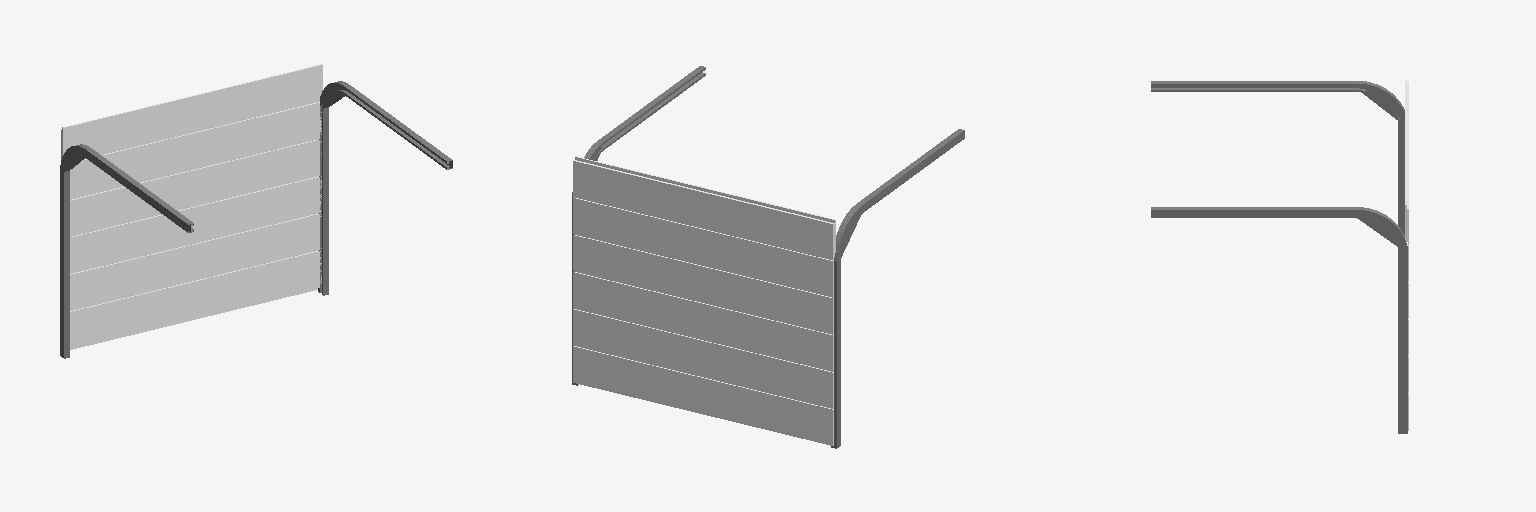
Rendered from garage_door_copy.obj.
3 views of the same model, side by side, from view 1: azimuth 30°, elevation 25°; view 2: azimuth 150°, elevation 25°; view 3: azimuth 270°, elevation 25° (orthographic).
Visible parts, largest first — view 1: garage_door_Cube, garage_door_mechanism_Cube.001; view 2: garage_door_Cube, garage_door_mechanism_Cube.001; view 3: garage_door_mechanism_Cube.001, garage_door_Cube.
Boxes of the visible parts, <box> form: garage_door_Cube: <box>61,64,322,349</box>; garage_door_mechanism_Cube.001: <box>60,81,452,358</box>; garage_door_Cube: <box>573,156,835,445</box>; garage_door_mechanism_Cube.001: <box>572,66,964,448</box>; garage_door_mechanism_Cube.001: <box>1151,81,1407,433</box>; garage_door_Cube: <box>1405,79,1408,430</box>.
Size of the model in its own units: 3.59 by 2.95 by 3.04.